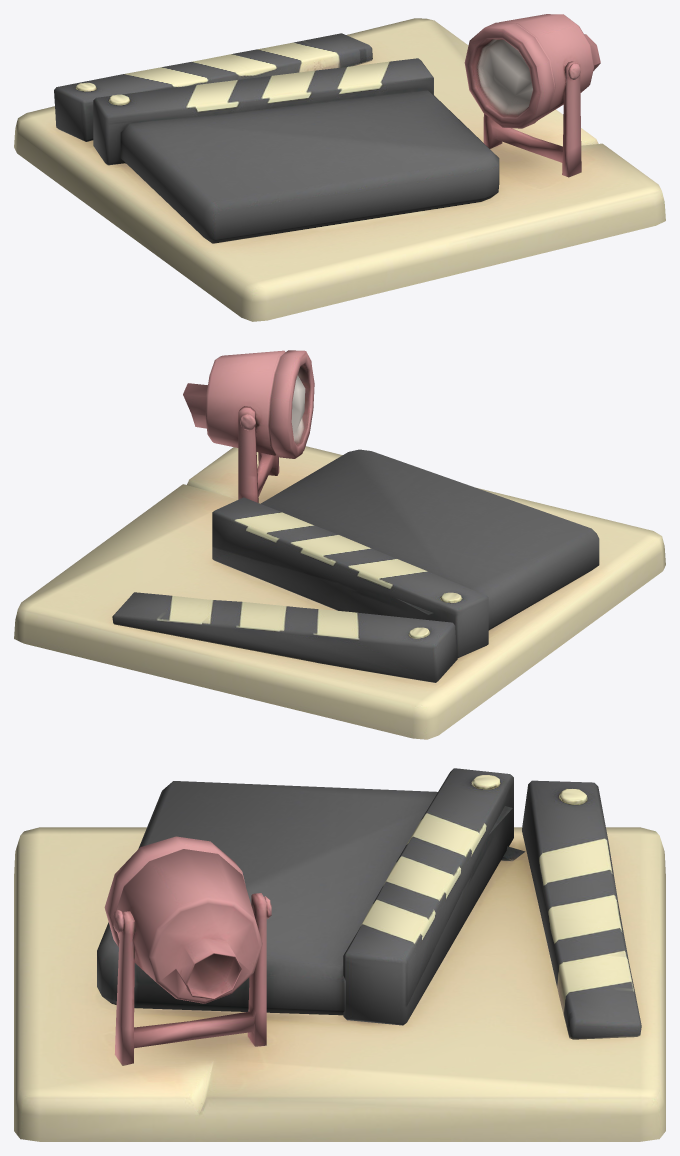
File: reshoot.glb
The picture shows the model from 3 angles, top to bottom: view 1: azimuth 30°, elevation 25°; view 2: azimuth 150°, elevation 25°; view 3: azimuth 270°, elevation 25°; orthographic projection. The views are drawn at different scales.
Visible parts, largest first — view 1: tripo_node_34f4dade-8c50-45c4-9ff8-f8026b5839d8; view 2: tripo_node_34f4dade-8c50-45c4-9ff8-f8026b5839d8; view 3: tripo_node_34f4dade-8c50-45c4-9ff8-f8026b5839d8.
Boxes of the visible parts, x1,y1,x2,y2 form: tripo_node_34f4dade-8c50-45c4-9ff8-f8026b5839d8: (14,14,665,321); tripo_node_34f4dade-8c50-45c4-9ff8-f8026b5839d8: (14,350,665,739); tripo_node_34f4dade-8c50-45c4-9ff8-f8026b5839d8: (14,768,665,1141).
Size of the model in its own units: 0.998 by 0.3965 by 0.998.
Materials: 1 (1 with a texture image).
